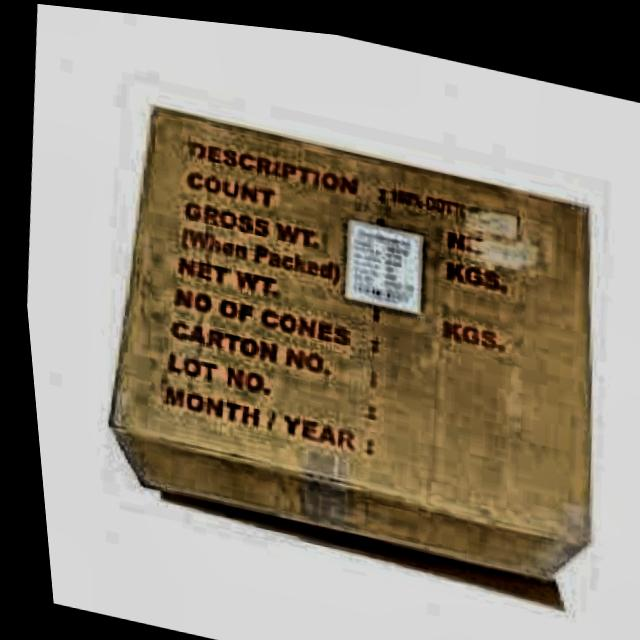Cardbox: (53, 65, 640, 618)
